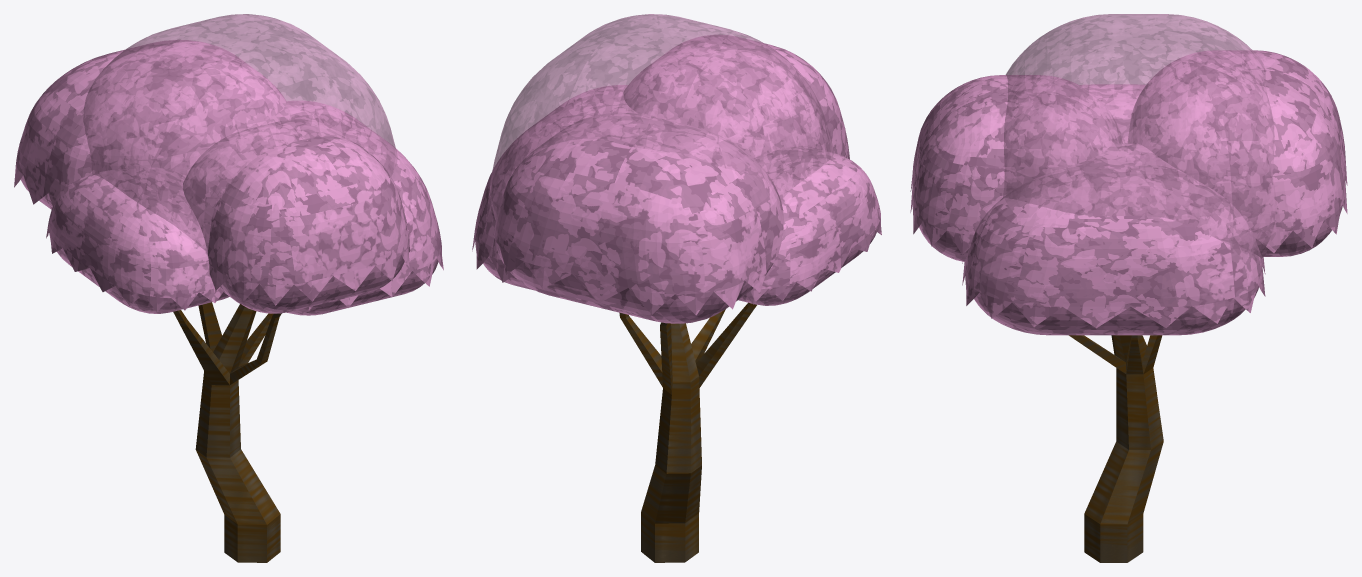
Rendered from сакура.fbx.
The picture shows the model from 3 angles, left to right: view 1: azimuth 30°, elevation 25°; view 2: azimuth 150°, elevation 25°; view 3: azimuth 270°, elevation 25°; orthographic projection. The views are drawn at different scales.
Parts seen in each view (by area): view 1: Cube.030, Cube.033, Cube.034, Cube.032, Cube.029, Cube.031; view 2: Cube.034, Cube.030, Cube.033, Cube.029, Cube.032, Cube.031; view 3: Cube.030, Cube.031, Cube.034, Cube.033, Cube.029, Cube.032.
Part boxes in pixels (x1,y1,x2,y2): Cube.030: [83, 14, 397, 253]; Cube.033: [183, 119, 409, 313]; Cube.034: [14, 40, 286, 209]; Cube.032: [46, 167, 229, 313]; Cube.029: [173, 302, 281, 562]; Cube.031: [260, 100, 443, 315]; Cube.034: [491, 112, 783, 323]; Cube.030: [486, 14, 834, 220]; Cube.033: [623, 35, 849, 159]; Cube.029: [619, 302, 756, 562]; Cube.032: [738, 146, 881, 305]; Cube.031: [472, 85, 637, 290]; Cube.030: [1003, 14, 1279, 263]; Cube.031: [962, 143, 1265, 335]; Cube.034: [1127, 50, 1347, 256]; Cube.033: [910, 75, 1122, 261]; Cube.029: [1069, 335, 1163, 562]; Cube.032: [1080, 84, 1145, 143].
Size of the model in its own units: 251 by 378 by 291.
